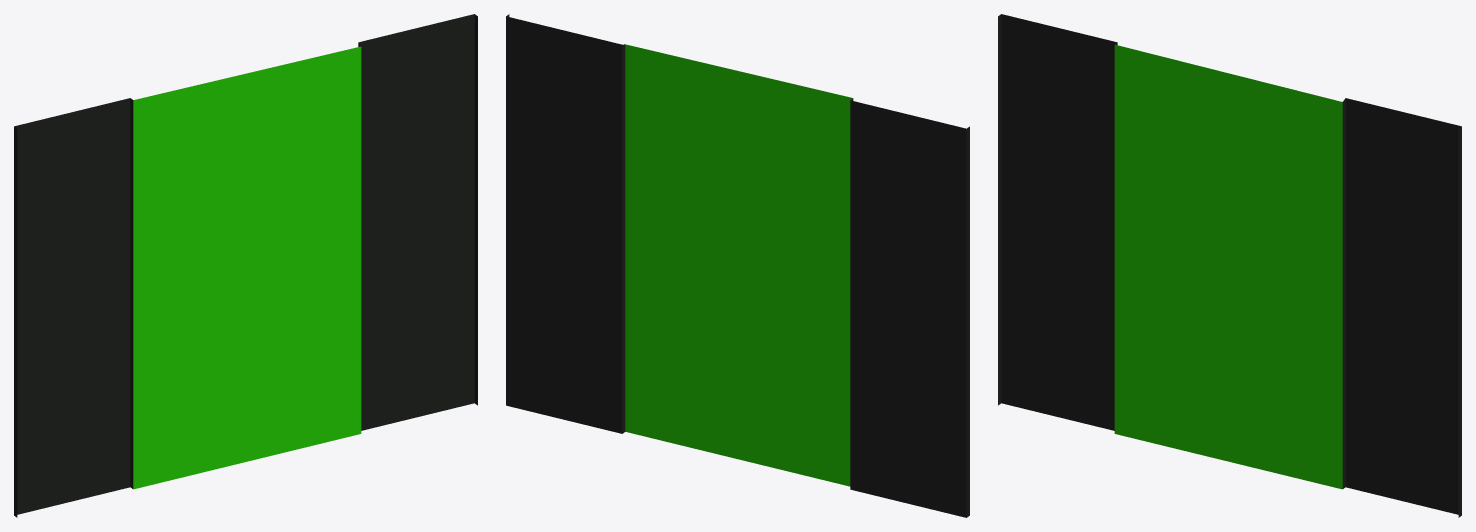
File: RoadSimpleSmall.fbx
3 renders of one model, left to right at view 1: azimuth 30°, elevation 25°; view 2: azimuth 150°, elevation 25°; view 3: azimuth 330°, elevation 25°, orthographic.
Parts seen in each view (by area): view 1: Road Simple Small; view 2: Road Simple Small; view 3: Road Simple Small.
Boxes of the visible parts, x1,y1,x2,y2 form: Road Simple Small: (14,14,477,517); Road Simple Small: (506,14,969,517); Road Simple Small: (998,14,1461,517).
Size of the model in its own units: 500 by 404 by 6.
